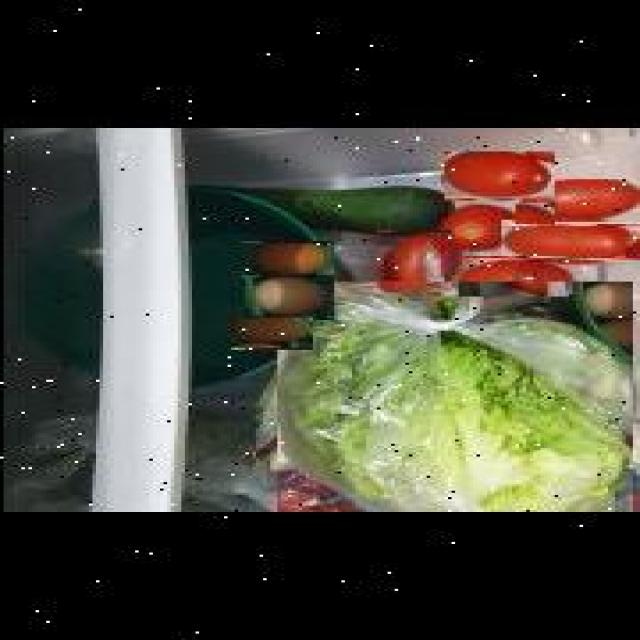egg: (242, 277, 331, 318), (238, 241, 331, 275), (228, 314, 310, 348)
salad: (274, 279, 629, 512)
tomato: (277, 279, 626, 512), (377, 221, 459, 293), (512, 179, 640, 224), (498, 220, 636, 260), (441, 152, 551, 198), (455, 256, 569, 297), (373, 230, 448, 292), (439, 200, 514, 248)
